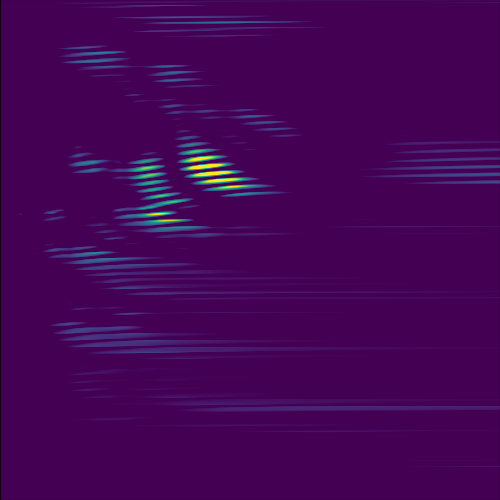semblance: (177, 145, 254, 200)
